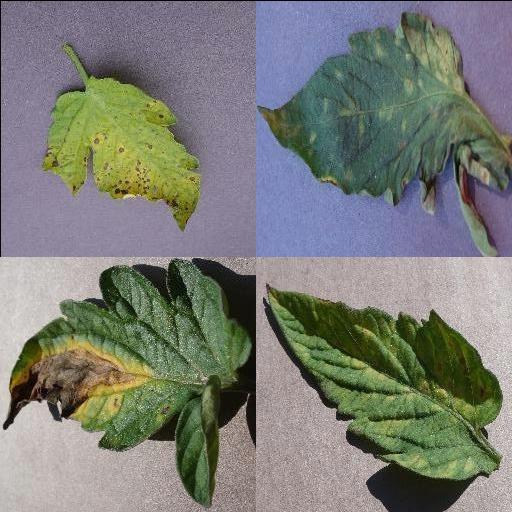Early Blight: (4, 256, 256, 453)
Leaf Mold: (256, 9, 512, 213), (265, 283, 501, 478)
Septoria: (38, 74, 198, 232)
